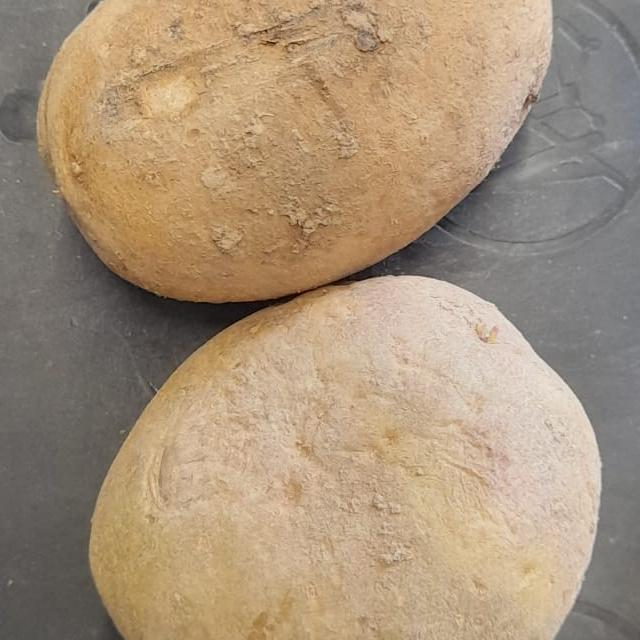potato: (39, 269, 640, 640), (16, 0, 606, 306)
